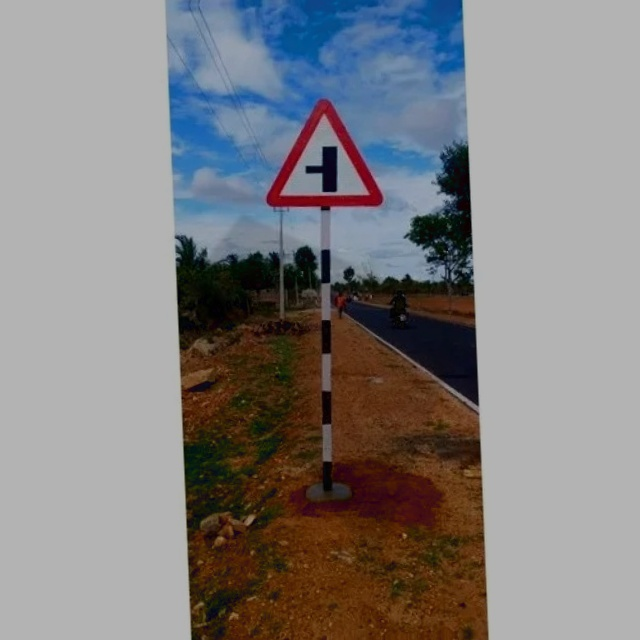Side_Road_Left: (258, 92, 387, 214)
